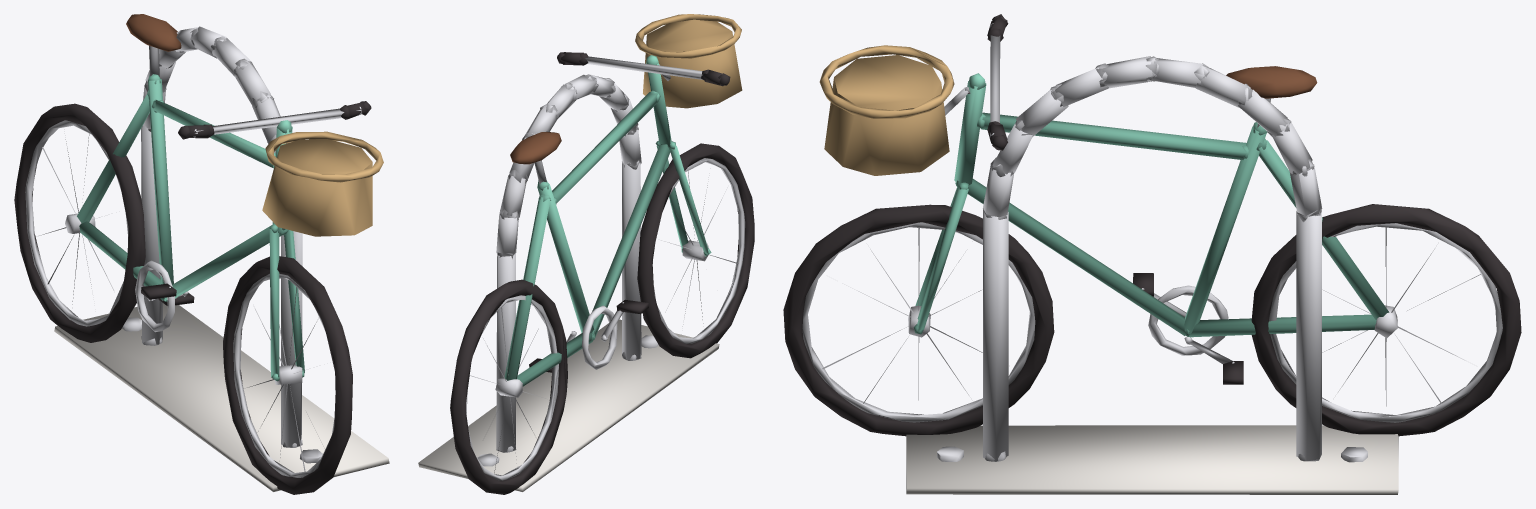
The model's file is bike-rack-chrome.glb.
3 views of the same model, side by side, from view 1: azimuth 30°, elevation 25°; view 2: azimuth 150°, elevation 25°; view 3: azimuth 270°, elevation 25° (orthographic). The views are drawn at different scales.
Parts seen in each view (by area): view 1: bike-rack-chrome; view 2: bike-rack-chrome; view 3: bike-rack-chrome.
Boxes of the visible parts, <box> form: bike-rack-chrome: <box>14,14,389,494</box>; bike-rack-chrome: <box>418,14,754,494</box>; bike-rack-chrome: <box>783,14,1521,494</box>.
Size of the model in its own units: 0.5551 by 1.01 by 1.64.
